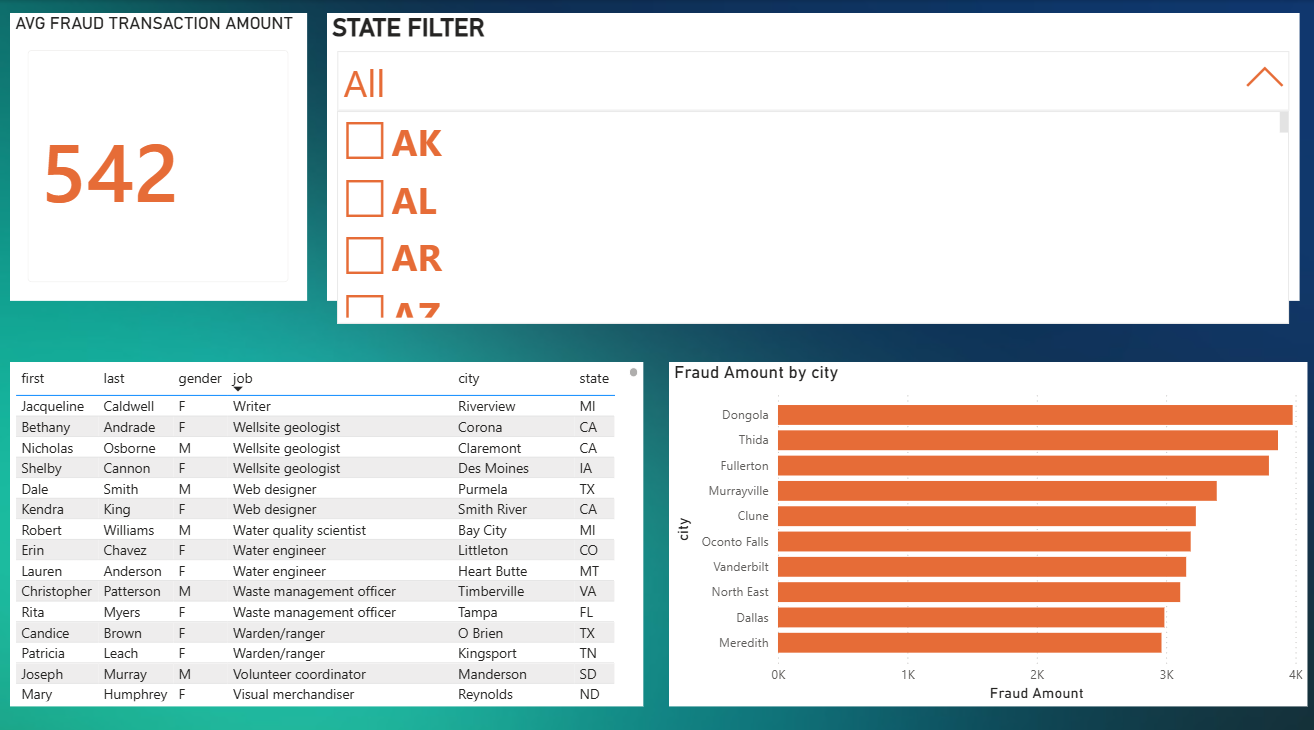

This screenshot's page, from the dashboard's own definition file:
{"tool":"powerbi","page":{"name":"CITY & STATE ANALYSIS","canvas":[1280,720],"ordinal":2},"visuals":[{"type":"tableEx","fields":{"Values":["cc_data_dec19.first","cc_data_dec19.last","cc_data_dec19.gender","cc_data_dec19.job","cc_data_dec19.city","cc_data_dec19.state"]},"box":[10.1,351.9,615.8,334.9],"z":0},{"type":"clusteredBarChart","fields":{"Category":["cc_data_dec19.city"],"Y":["cc_data_dec19.Fraud Amount"]},"box":[650.7,351.9,621.4,334.9],"z":1},{"type":"cardVisual","title":"AVG FRAUD TRANSACTION AMOUNT","fields":{"Data":["cc_data_dec19.AVG TRANSCTION"]},"box":[10.1,12.4,288.7,279.7],"z":2},{"type":"slicer","title":"STATE FILTER","fields":{"Values":["cc_data_dec19.state"]},"box":[318,12.4,946.2,279.7],"z":3}]}

Visuals, with their boxes in screenshot pixels (x1, y1, x2, y2), scaled from the page's 1280x720 canvas onto the 1314x730 screenshot:
tableEx - cc_data_dec19.first x cc_data_dec19.last: left=10, top=357, right=643, bottom=696
clusteredBarChart - cc_data_dec19.city x cc_data_dec19.Fraud Amount: left=668, top=357, right=1306, bottom=696
"AVG FRAUD TRANSACTION AMOUNT" cardVisual: left=10, top=13, right=307, bottom=296
"STATE FILTER" slicer: left=326, top=13, right=1298, bottom=296
